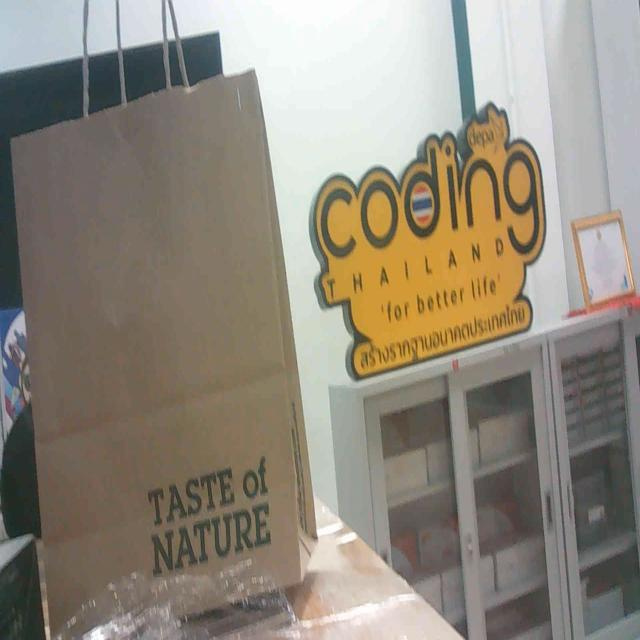bag: (13, 56, 320, 640)
